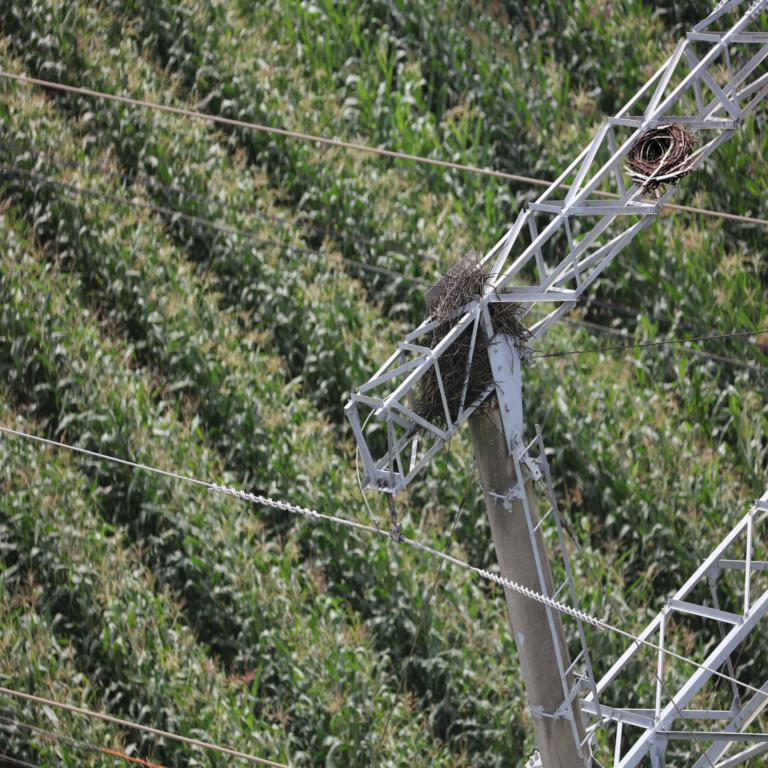nest: (429, 273, 524, 426), (629, 124, 701, 191)
